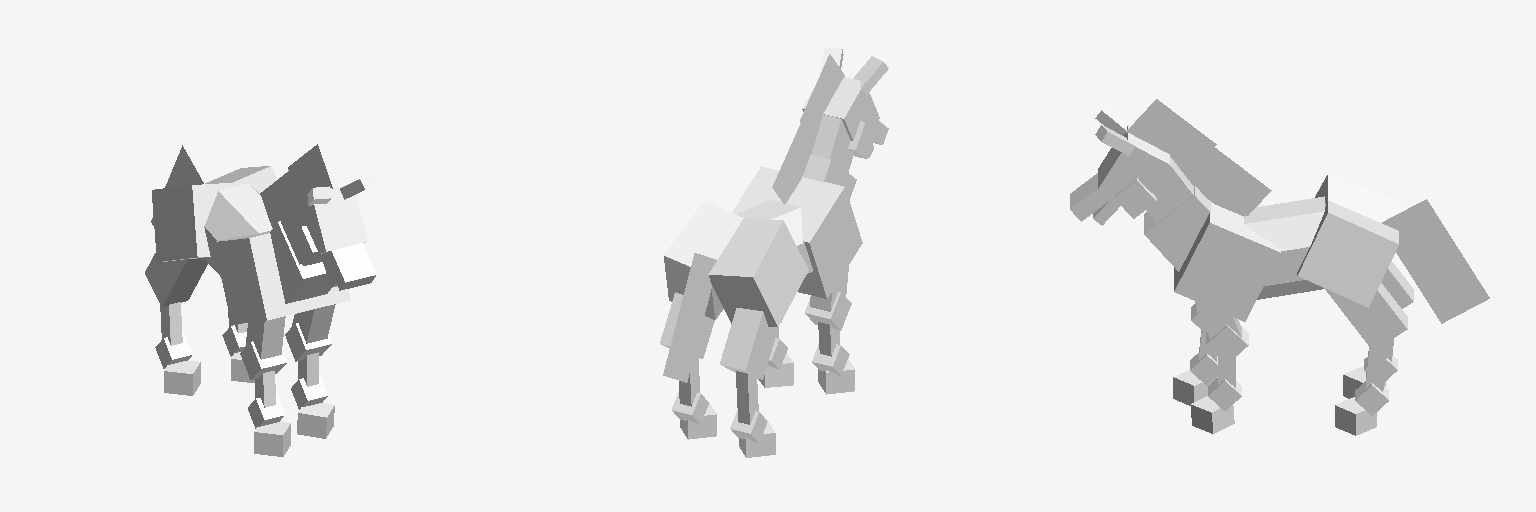
Rendered from mt_horse_a0.obj.
3 renders of one model, left to right at view 1: azimuth 30°, elevation 25°; view 2: azimuth 150°, elevation 25°; view 3: azimuth 270°, elevation 25°, orthographic.
Parts seen in each view (by area): view 1: cube.021, cube.043, cube.027, cube.024, cube.044, cube.030, octagon.001, cube.033, octagon.000, cube.023, cube.035, cube.015 (+14 smaller); view 2: cube.043, cube.021, cube.041, cube.042, cube.044, cube.027, cube.025, cube.033, cube.026, cube.024, cube.039, cube.040 (+14 smaller); view 3: cube.021, cube.041, cube.042, cube.033, cube.025, cube.024, cube.027, cube.040, cube.043, octagon, cube.026, octagon.000 (+16 smaller).
Boxes of the visible parts, x1=… form: cube.021: x1=214, y1=231, x2=350, y2=324; cube.043: x1=152, y1=183, x2=232, y2=261; cube.027: x1=290, y1=184, x2=367, y2=254; cube.024: x1=270, y1=221, x2=331, y2=303; cube.044: x1=145, y1=253, x2=207, y2=306; cube.030: x1=323, y1=243, x2=376, y2=290; octagon.001: x1=204, y1=191, x2=258, y2=240; cube.033: x1=288, y1=144, x2=332, y2=196; octagon.000: x1=219, y1=184, x2=272, y2=232; cube.023: x1=246, y1=316, x2=285, y2=359; cube.035: x1=164, y1=361, x2=200, y2=395; cube.015: x1=297, y1=403, x2=334, y2=438; cube.043: x1=708, y1=218, x2=808, y2=326; cube.021: x1=732, y1=166, x2=862, y2=298; cube.041: x1=664, y1=201, x2=743, y2=319; cube.042: x1=663, y1=253, x2=716, y2=382; cube.044: x1=720, y1=308, x2=778, y2=379; cube.027: x1=802, y1=77, x2=879, y2=140; cube.025: x1=772, y1=123, x2=814, y2=203; cube.033: x1=800, y1=54, x2=844, y2=140; cube.026: x1=811, y1=114, x2=853, y2=172; cube.024: x1=802, y1=155, x2=856, y2=200; cube.039: x1=736, y1=371, x2=758, y2=424; cube.040: x1=660, y1=292, x2=714, y2=358; cube.021: x1=1174, y1=202, x2=1280, y2=321; cube.041: x1=1297, y1=201, x2=1398, y2=307; cube.042: x1=1382, y1=199, x2=1489, y2=323; cube.033: x1=1126, y1=99, x2=1216, y2=175; cube.025: x1=1186, y1=147, x2=1271, y2=216; cube.024: x1=1144, y1=186, x2=1210, y2=271; cube.027: x1=1098, y1=124, x2=1169, y2=197; cube.040: x1=1324, y1=283, x2=1407, y2=350; cube.043: x1=1315, y1=174, x2=1398, y2=222; octagon: x1=1245, y1=211, x2=1324, y2=250; cube.026: x1=1146, y1=157, x2=1193, y2=223; octagon.000: x1=1244, y1=196, x2=1325, y2=223.
Size of the model in its own units: 1.26 by 3.47 by 4.21.